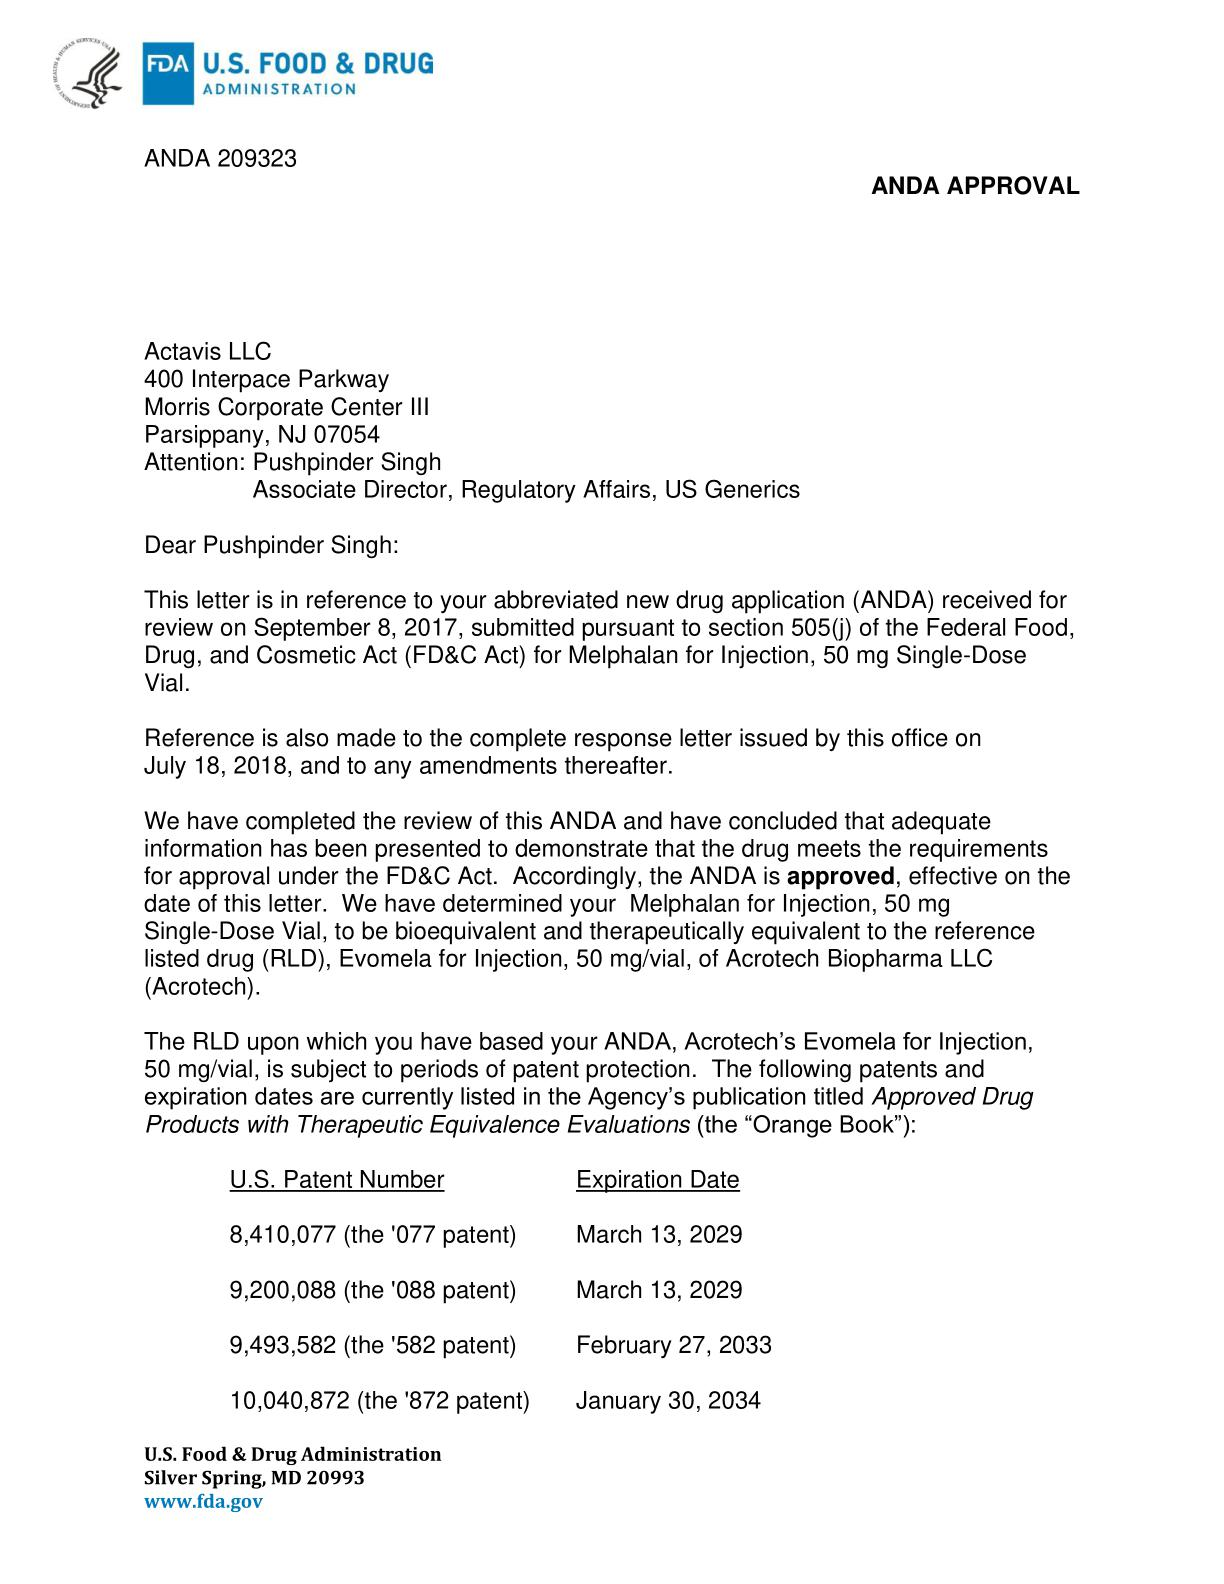nolines: (226, 1167, 775, 1414)
